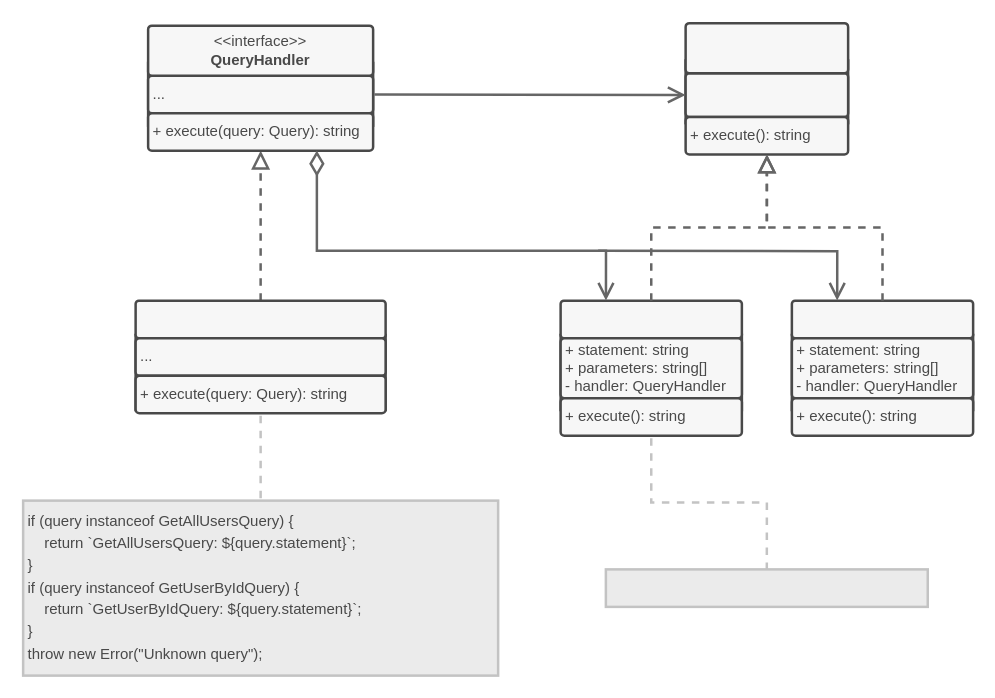
This 995x698 diagram has some shape labels left out. The box of each missing label's shape, as (x1, y1, x2, y2) in pixels:
+ statement: string + parameters: string[]: (684, 71, 849, 118)
<<interface>> Query: (684, 21, 849, 74)
ConcreteQueryHandler: (134, 299, 386, 339)
GetAllUsersQuery: (559, 299, 742, 339)
GetUserByIdQuery: (790, 299, 974, 339)
return this.handler.execute(this);: (604, 568, 928, 608)
